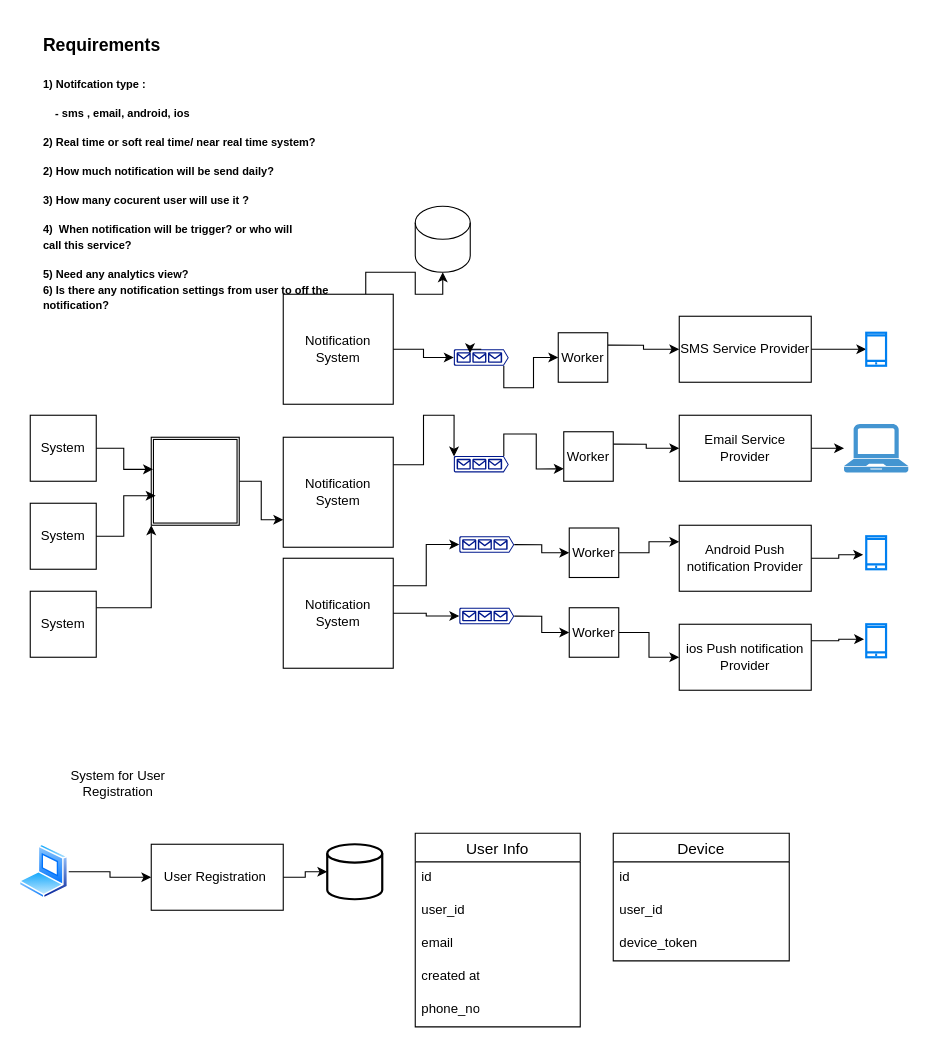
Some shapes in this 927 by 1048 pixel diagram are drawn without their labels. The centre of each missing label's shape, as x and y in pixels:
DB: [354,871]
DB for analyics: [442,238]
Load Balancer: [194,480]
